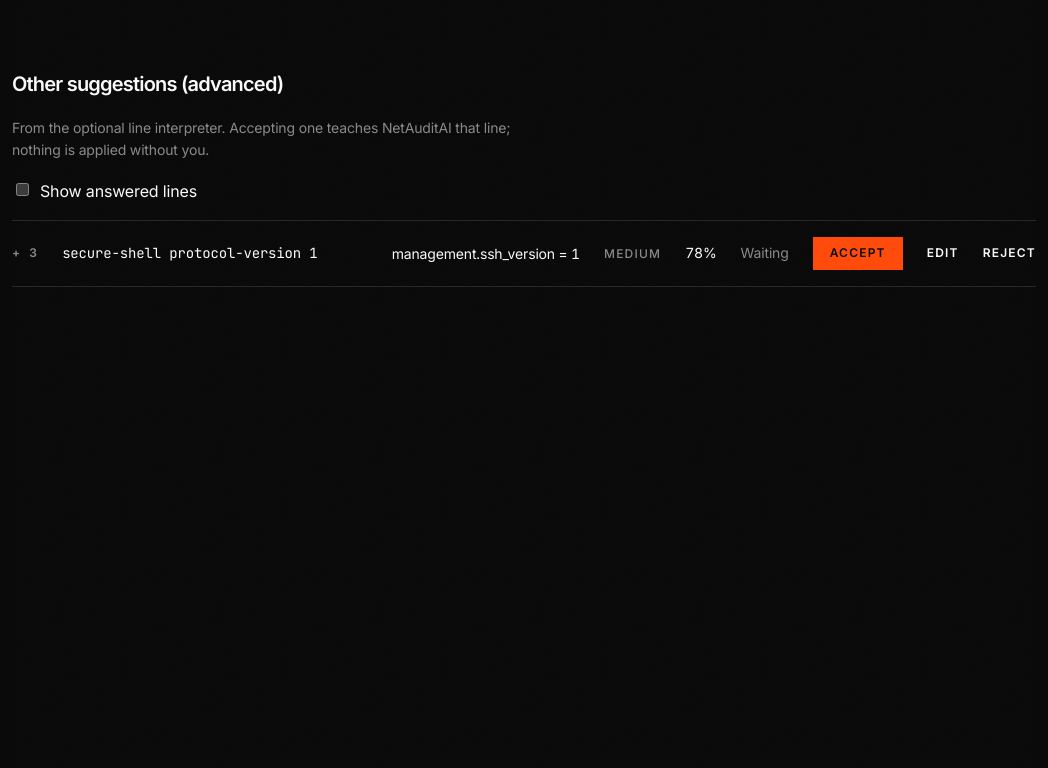
labels fields from the catalog and shows the block path
This screenshot has width=1048, height=768.
Click the button with aria-label "Edit line 3": (943, 254) [927,238,959,270]
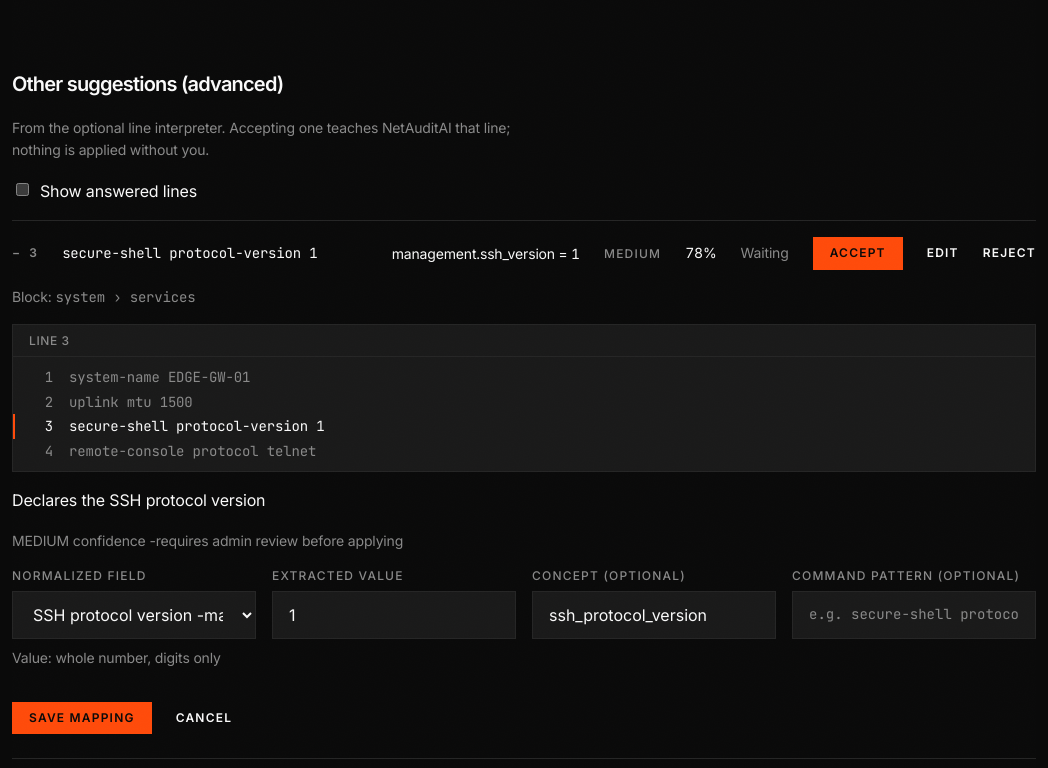
Expected: the text "Value: whole number, digits only" is shown, [12,647,256,670]
Expected: the text "system › services" is shown, [56,288,196,306]
